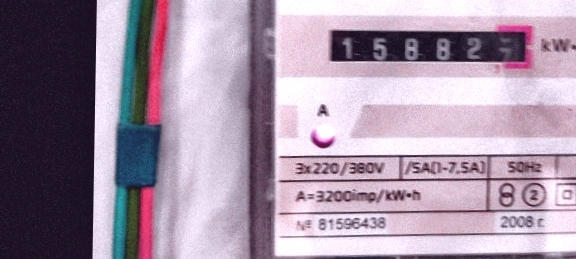1: (339, 35, 354, 60)
2: (465, 34, 482, 60)
5: (370, 35, 387, 61)
7: (496, 45, 511, 61)
8: (401, 36, 419, 60), (433, 35, 450, 60)
screen: (315, 15, 542, 78)
